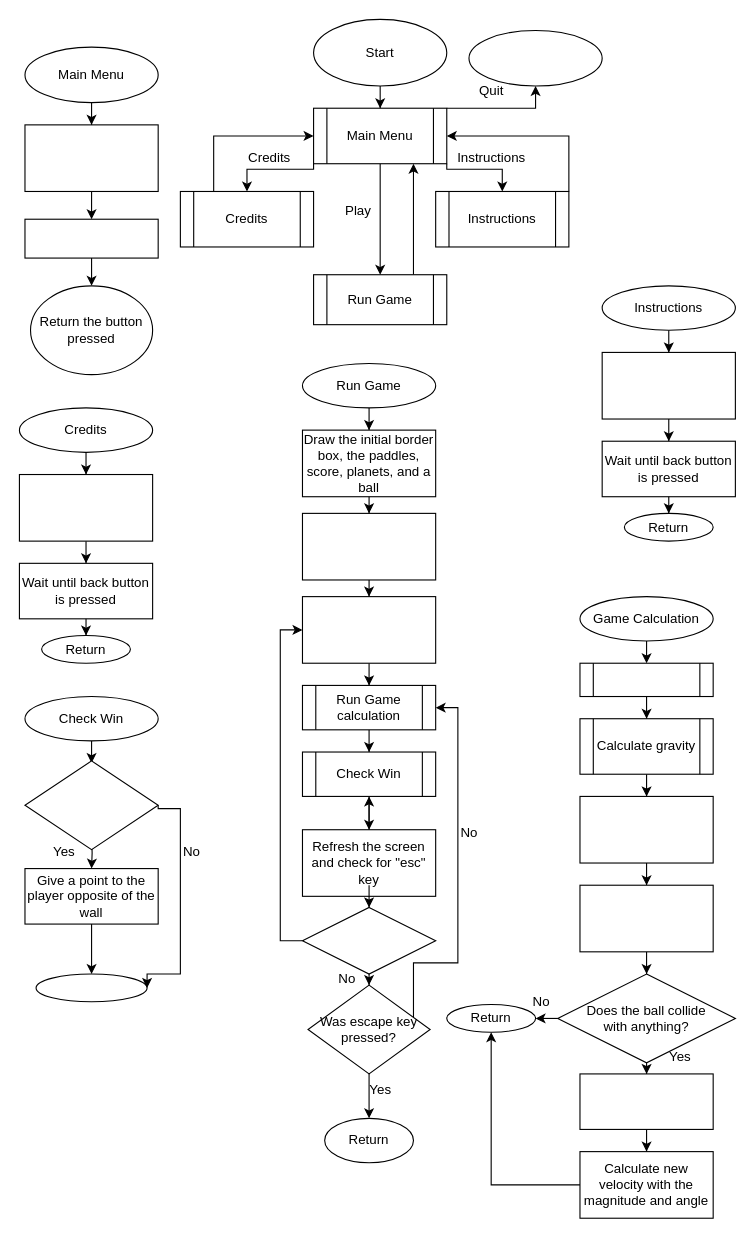
This 755x1238 diagram has some shape labels left out. Here are the shapes that lost their labels. From the top down, the centre of each, then its label:
the point at 535,57: End
the point at 91,157: Show "Play", "Instructions", "credits", and "quit", button
the point at 91,238: Wait for user input
the point at 668,385: Display instruction and "back" button
the point at 85,507: Display credits and "back" button
the point at 368,546: Set the framerate to 60 fps
the point at 368,629: Give the ball an initial velocity to the left or right after a button press
the point at 646,679: User input
the point at 91,805: Did the ball hit one side of the screen?
the point at 646,829: Use Kinomatics formula to calculate the ball next frame location
the point at 646,918: Modify the velocity value of ball using kinomatics
the point at 368,940: Was Check Win yes or No?
the point at 91,987: Return Yes or No
the point at 646,1101: Find angle between velocity and surface edge
